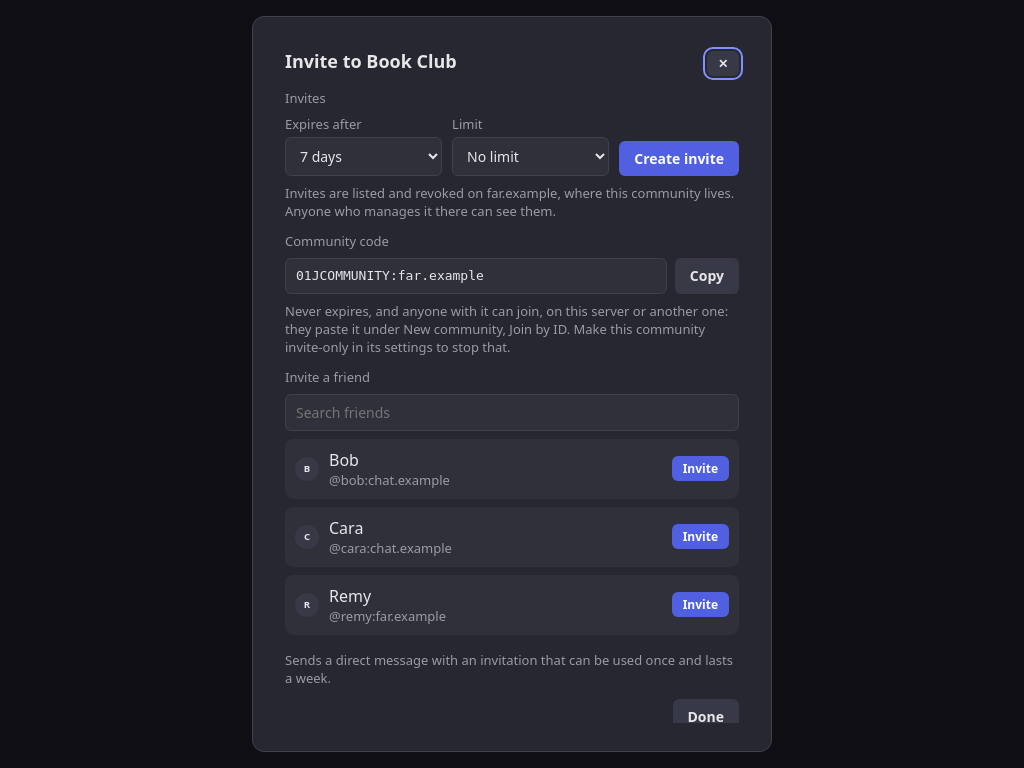
Scenario: InviteModal: a community on another server › still makes an invite, shows its code, and offers no way to revoke what it cannot list
Click the button "Create invite" at (679, 158), box [619,140,739,176]
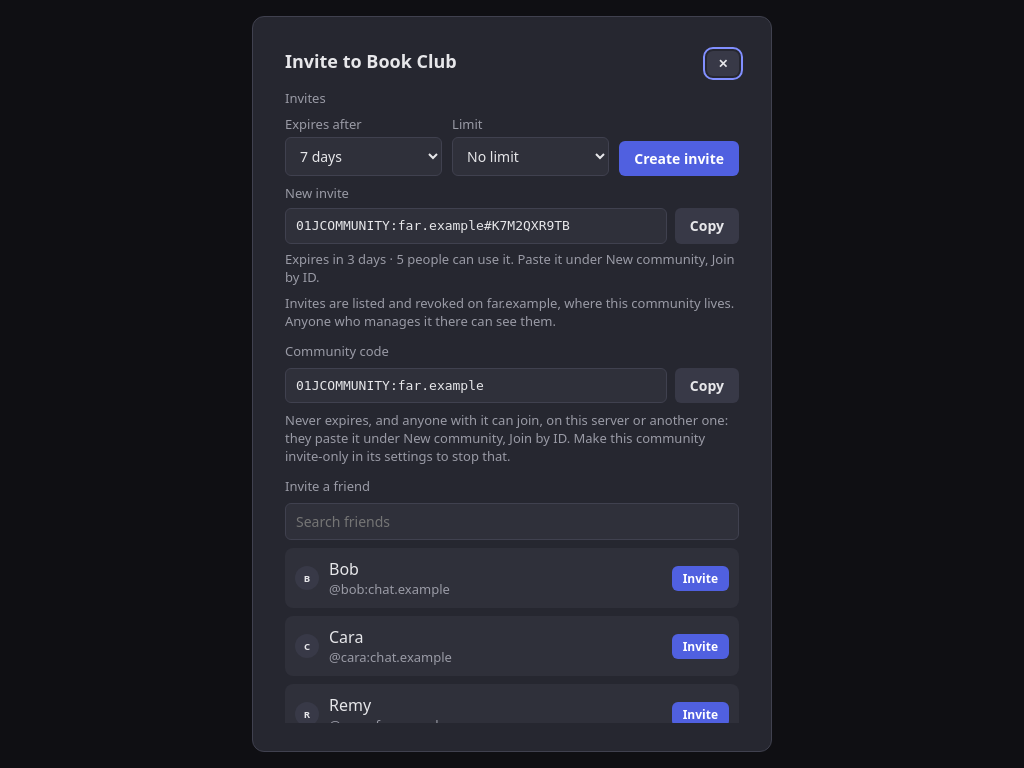
Expected: the field labelled "New invite" holds "01JCOMMUNITY:far.example#K7M2QXR9TB", [285,208,667,244]
